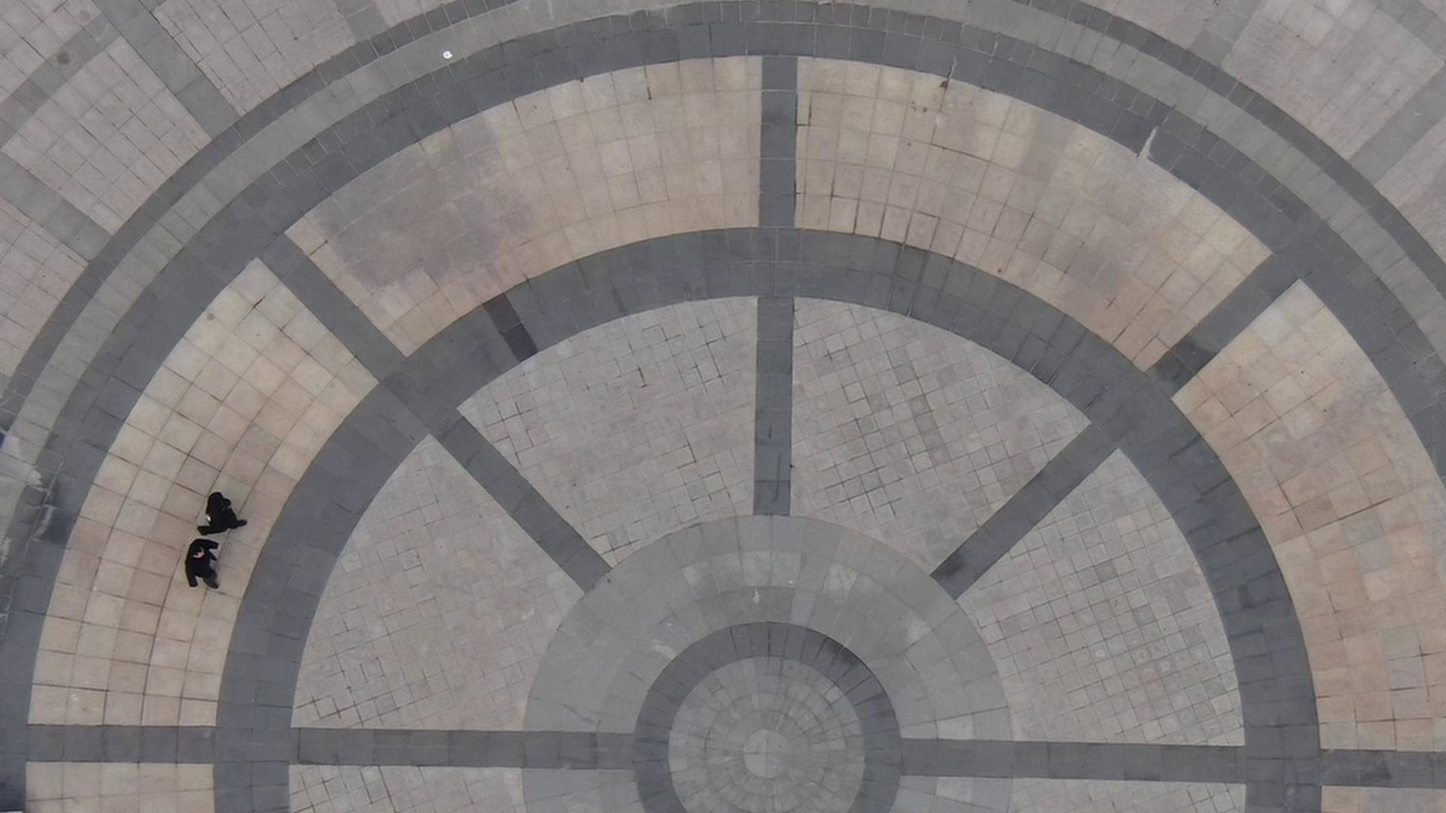human: (221, 464, 289, 523), (209, 517, 255, 571)
